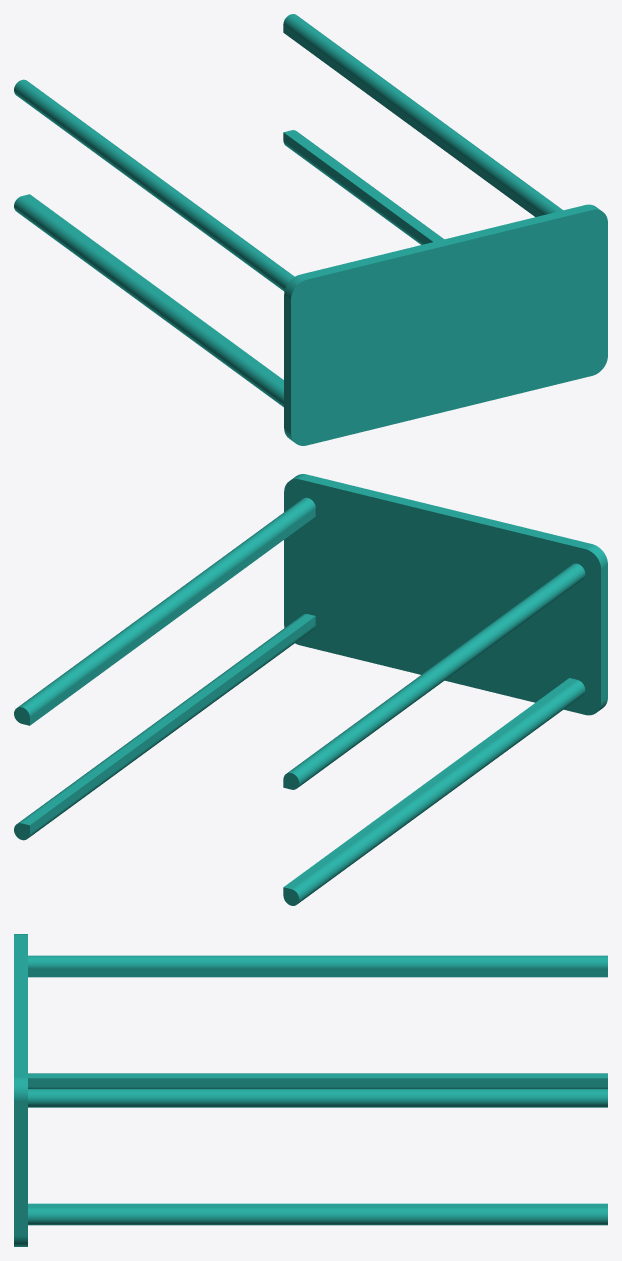
Rendered from Table.obj.
3 renders of one model, top to bottom at view 1: azimuth 30°, elevation 25°; view 2: azimuth 150°, elevation 25°; view 3: azimuth 270°, elevation 25°, orthographic.
Visible parts, largest first — view 1: mesh6, mesh16, mesh3, mesh20, mesh19, mesh1, mesh7, mesh22, mesh23, mesh24, mesh8; view 2: mesh4, mesh16, mesh3, mesh20, mesh19, mesh22, mesh1, mesh23, mesh24, mesh7, mesh8; view 3: mesh20, mesh24, mesh16, mesh2, mesh14, mesh1, mesh3, mesh23, mesh7, mesh5.
Part boxes in pixels (x1,y1,x2,y2): mesh6: [291, 209, 607, 445]; mesh16: [14, 79, 294, 291]; mesh3: [14, 196, 283, 407]; mesh20: [283, 14, 562, 214]; mesh19: [283, 24, 543, 216]; mesh1: [22, 194, 283, 387]; mesh7: [300, 205, 591, 279]; mesh22: [283, 132, 432, 243]; mesh23: [284, 130, 440, 241]; mesh24: [283, 130, 443, 244]; mesh8: [284, 295, 290, 432]; mesh4: [284, 479, 600, 715]; mesh16: [287, 563, 585, 787]; mesh3: [291, 680, 585, 903]; mesh20: [17, 497, 315, 716]; mesh19: [30, 508, 315, 725]; mesh22: [30, 616, 315, 833]; mesh1: [284, 678, 576, 888]; mesh23: [22, 614, 315, 825]; mesh24: [18, 614, 315, 837]; mesh7: [300, 474, 591, 548]; mesh8: [601, 565, 607, 701]; mesh20: [28, 1089, 607, 1107]; mesh24: [28, 1207, 607, 1225]; mesh16: [28, 955, 607, 968]; mesh2: [28, 1078, 607, 1086]; mesh14: [28, 969, 607, 977]; mesh1: [28, 1074, 607, 1078]; mesh3: [28, 1073, 607, 1088]; mesh23: [28, 1203, 607, 1207]; mesh7: [14, 935, 27, 1076]; mesh5: [14, 1101, 27, 1236].
Size of the model in its own units: 1.6 by 0.8 by 2.56.
